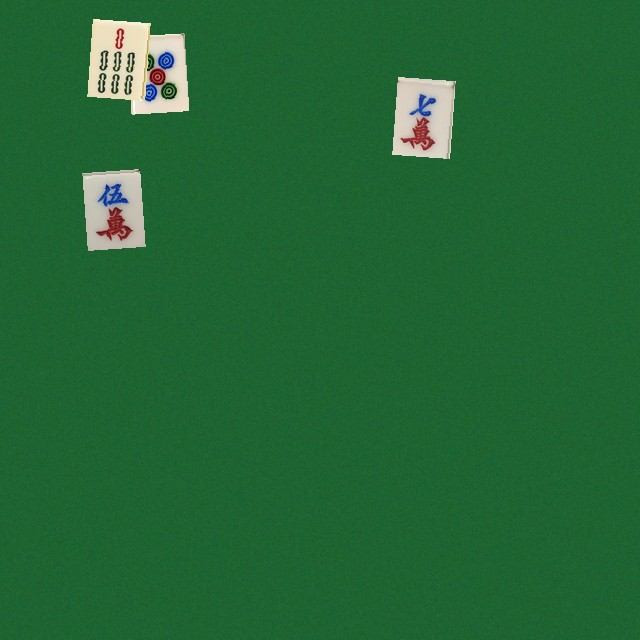tile: (126, 33, 184, 111), (392, 76, 450, 154), (87, 19, 145, 97), (82, 169, 140, 247)
